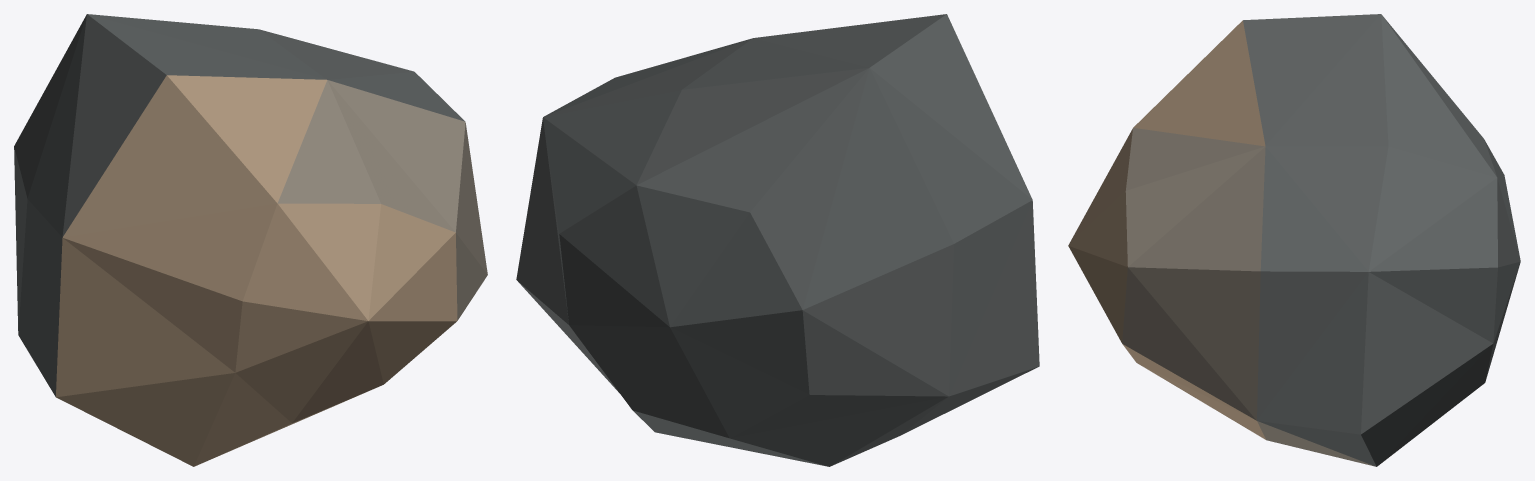
File: mountain-rock-03-tall.glb
The picture shows the model from 3 angles, left to right: view 1: azimuth 30°, elevation 25°; view 2: azimuth 150°, elevation 25°; view 3: azimuth 270°, elevation 25°; orthographic projection. The views are drawn at different scales.
Visible parts, largest first — view 1: Mountain Rock 03 Tall; view 2: Mountain Rock 03 Tall; view 3: Mountain Rock 03 Tall.
Part boxes in pixels (bbox=[...]): Mountain Rock 03 Tall: bbox=[14, 14, 487, 466]; Mountain Rock 03 Tall: bbox=[516, 14, 1039, 466]; Mountain Rock 03 Tall: bbox=[1068, 14, 1520, 466].
Bounding box in the file's own units: 1.21 × 1.07 × 1.18.
